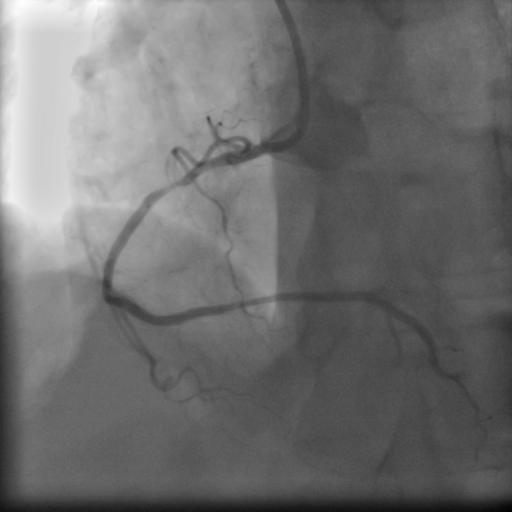Stenosis: (160, 177, 187, 194)
